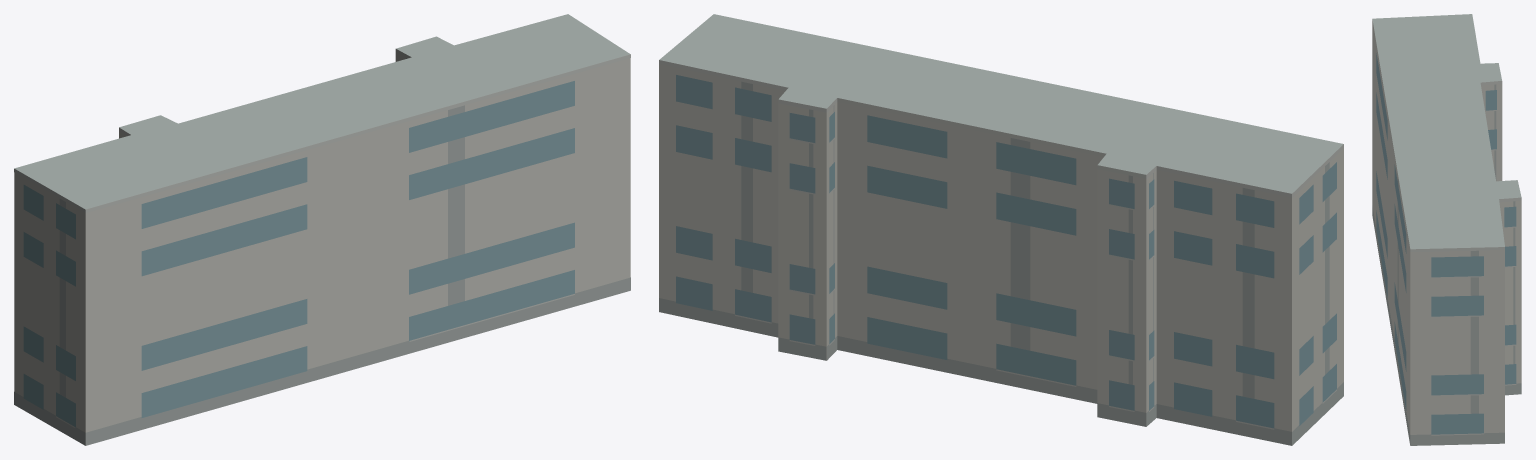
The model's file is survey-upis-32503376.glb.
The picture shows the model from 3 angles, left to right: view 1: azimuth 30°, elevation 25°; view 2: azimuth 150°, elevation 25°; view 3: azimuth 270°, elevation 25°; orthographic projection. The views are drawn at different scales.
Parts seen in each view (by area): view 1: survey-upis-32503376.tmp; view 2: survey-upis-32503376.tmp; view 3: survey-upis-32503376.tmp.
Boxes of the visible parts, x1=… form: survey-upis-32503376.tmp: x1=14, y1=14, x2=630, y2=445; survey-upis-32503376.tmp: x1=659, y1=14, x2=1343, y2=445; survey-upis-32503376.tmp: x1=1372, y1=14, x2=1521, y2=445.
Bounding box in the file's own units: 39.14 × 15.25 × 10.5.
